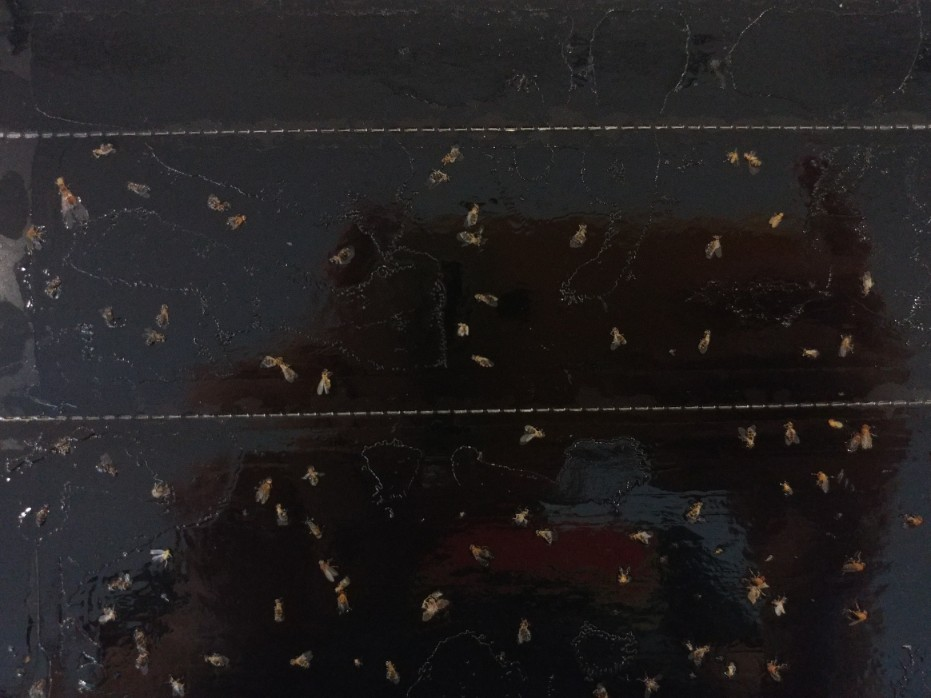termite: (40, 166, 104, 238)
